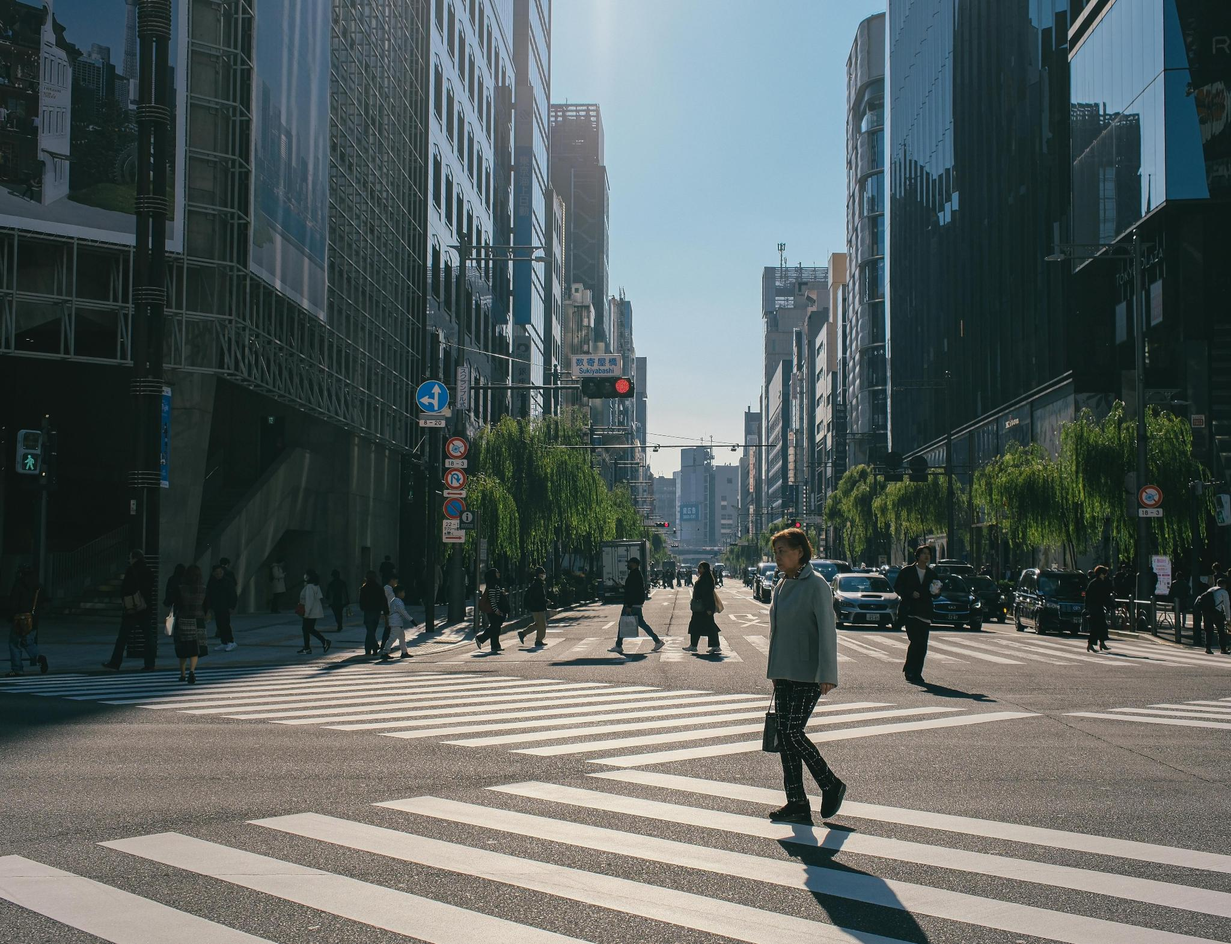car: (1017, 568, 1083, 636), (834, 573, 901, 632), (933, 582, 983, 632)
pedestrian: (755, 523, 852, 828), (895, 545, 947, 686), (102, 550, 161, 672), (612, 552, 669, 659), (159, 562, 205, 685), (685, 561, 726, 662), (170, 601, 213, 684), (296, 569, 337, 656), (1082, 568, 1119, 657), (205, 562, 239, 652), (1195, 580, 1231, 658), (475, 570, 507, 656), (356, 575, 387, 659), (524, 575, 555, 652), (384, 580, 411, 655), (328, 569, 350, 630)
